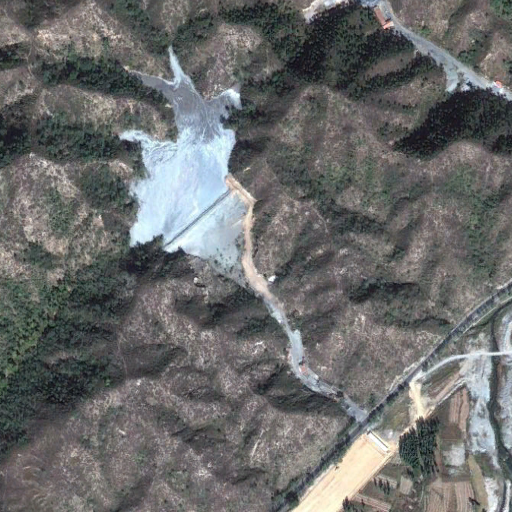tp: (123, 46, 264, 295)
